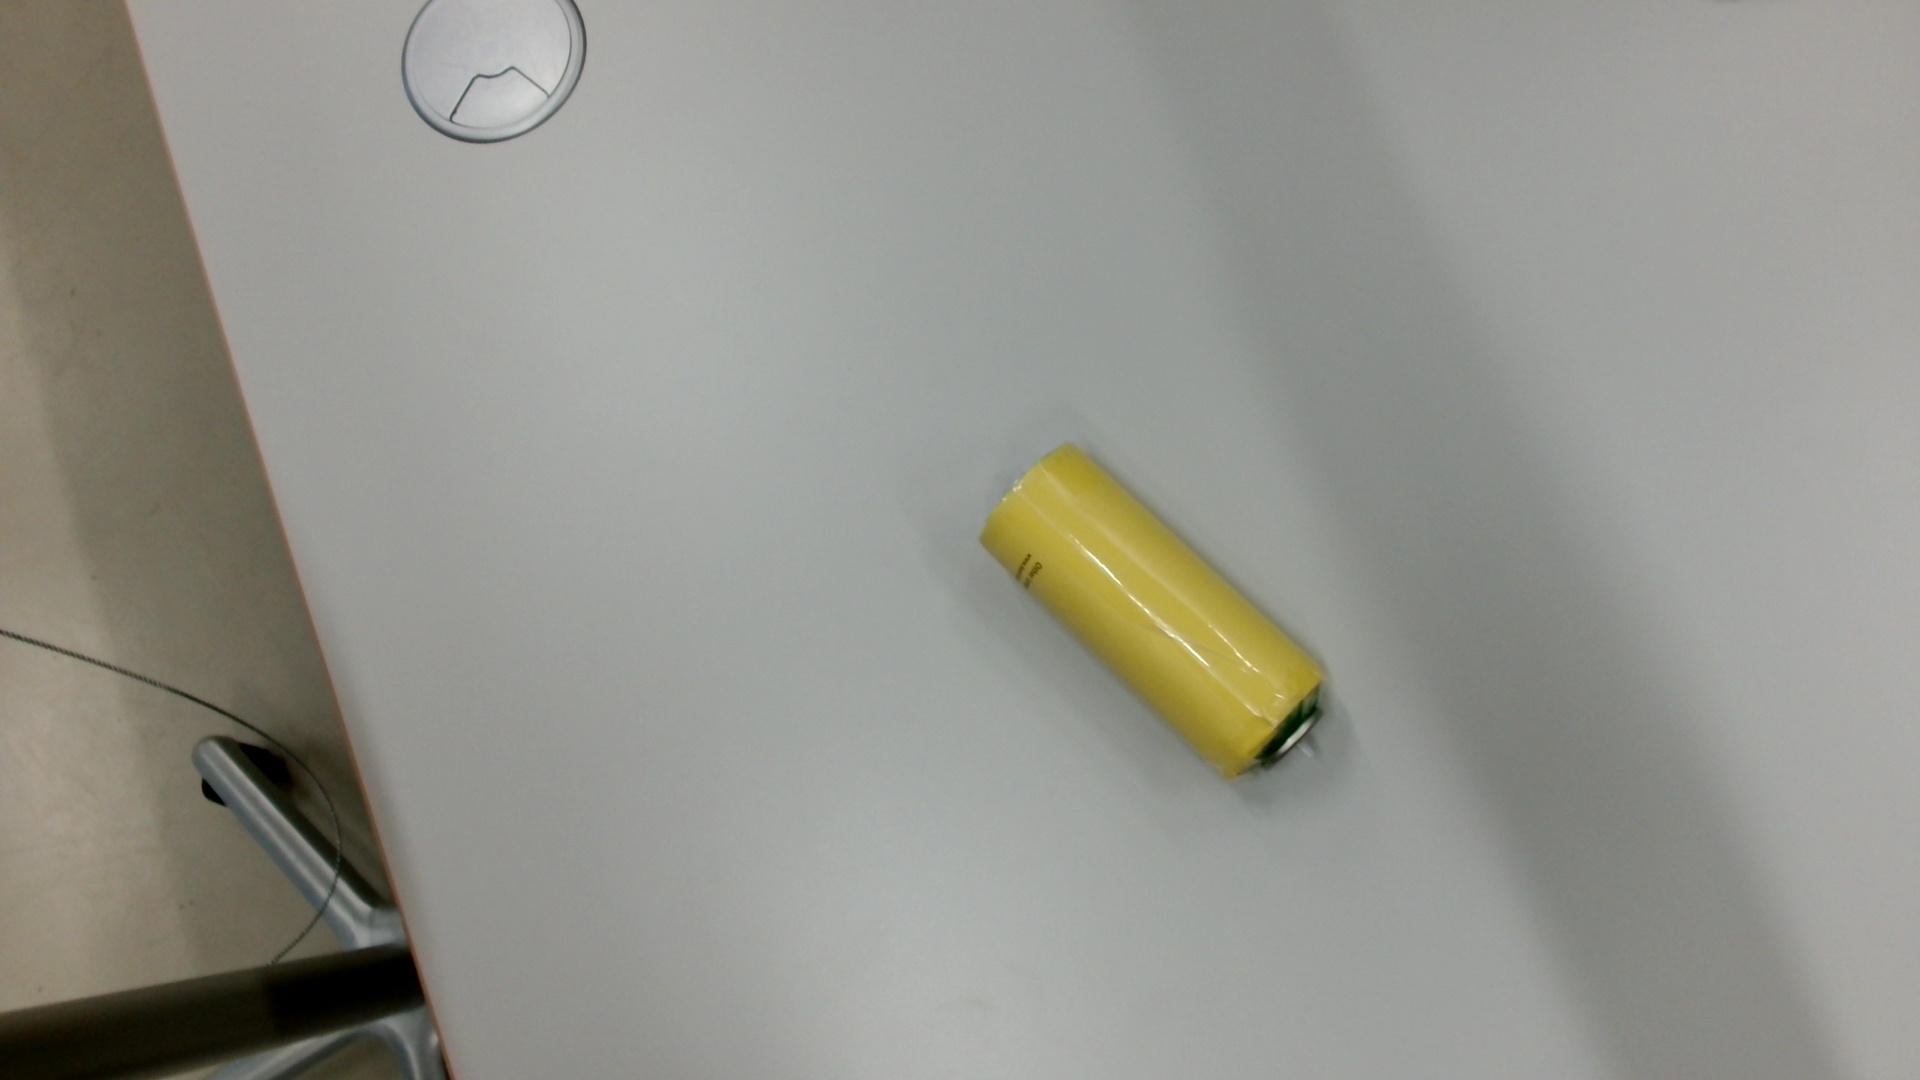Cylinder: (968, 430, 1353, 800)
